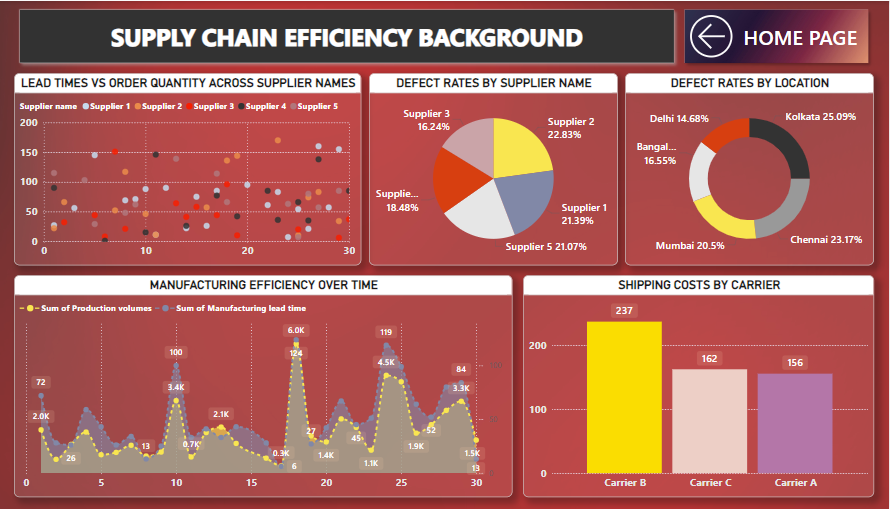

The page's visual inventory and layout, read from the dashboard file:
{"tool":"powerbi","page":{"name":"Supply Chain Efficiency","canvas":[1400,800],"ordinal":2},"visuals":[{"type":"scatterChart","title":"LEAD TIMES VS ORDER QUANTITY ACROSS SUPPLIER NAMES","fields":{"Series":["supply_chain_data.Supplier name"],"Y":["Sum(supply_chain_data.Order quantities)"],"X":["supply_chain_data.Lead times"]},"box":[21.7,113.3,546.7,303.3],"z":0},{"type":"lineChart","title":"MANUFACTURING EFFICIENCY OVER TIME","fields":{"Y":["Sum(supply_chain_data.Production volumes)"],"Y2":["Sum(supply_chain_data.Manufacturing lead time)"],"Category":["supply_chain_data.Lead time"]},"box":[21.7,431.7,785,350],"z":1000},{"type":"shape","box":[21.7,5,1048.3,101.7],"z":2000},{"type":"clusteredColumnChart","title":"SHIPPING COSTS BY CARRIER","fields":{"Category":["supply_chain_data.Shipping carriers"],"Y":["Sum(supply_chain_data.Shipping costs)"]},"box":[823.3,431.7,553.3,350],"z":3000},{"type":"pieChart","title":"DEFECT RATES BY SUPPLIER NAME","fields":{"Category":["supply_chain_data.Supplier name"],"Y":["Sum(supply_chain_data.Defect rates)"]},"box":[581.7,113.3,391.7,303.3],"z":4000},{"type":"donutChart","title":"DEFECT RATES BY LOCATION","fields":{"Category":["supply_chain_data.Location"],"Y":["Sum(supply_chain_data.Defect rates)"]},"box":[985,113.3,391.7,303.3],"z":5000},{"type":"actionButton","box":[1070,5,306.7,101.7],"z":6000}]}

Visuals, with their boxes in screenshot pixels (x1, y1, x2, y2), scaled from the page's 1400x800 canvas onto the 890x509 screenshot:
"LEAD TIMES VS ORDER QUANTITY ACROSS SUPPLIER NAMES" scatterChart: (14, 72, 361, 265)
"MANUFACTURING EFFICIENCY OVER TIME" lineChart: (14, 275, 513, 497)
shape: (14, 3, 680, 68)
"SHIPPING COSTS BY CARRIER" clusteredColumnChart: (523, 275, 875, 497)
"DEFECT RATES BY SUPPLIER NAME" pieChart: (370, 72, 619, 265)
"DEFECT RATES BY LOCATION" donutChart: (626, 72, 875, 265)
actionButton: (680, 3, 875, 68)
